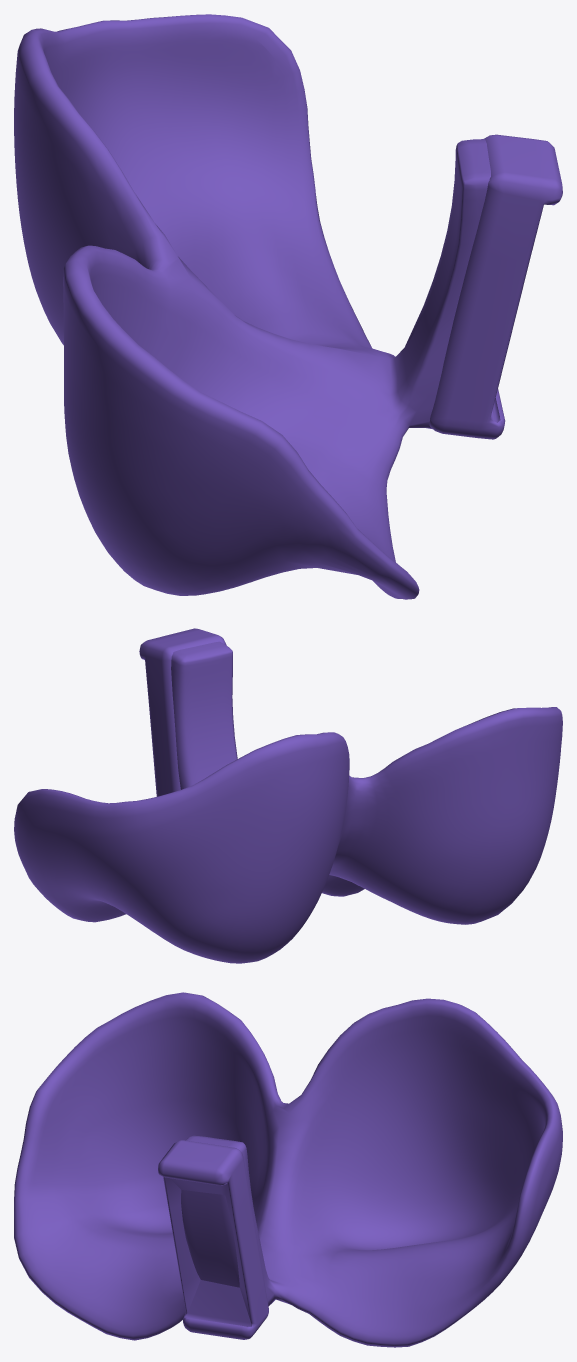
File: TR5_Spacers_BaguetteMetal.001 3.glb
The picture shows the model from 3 angles, top to bottom: view 1: azimuth 30°, elevation 25°; view 2: azimuth 150°, elevation 25°; view 3: azimuth 270°, elevation 25°; orthographic projection. The views are drawn at different scales.
Visible parts, largest first — view 1: TR5_Spacers_BaguetteMetal.001; view 2: TR5_Spacers_BaguetteMetal.001; view 3: TR5_Spacers_BaguetteMetal.001.
Boxes of the visible parts, <box> form: TR5_Spacers_BaguetteMetal.001: <box>14,14,562,599</box>; TR5_Spacers_BaguetteMetal.001: <box>14,628,562,963</box>; TR5_Spacers_BaguetteMetal.001: <box>14,992,562,1347</box>.
Size of the model in its own units: 0.9813 by 0.7487 by 1.28.
